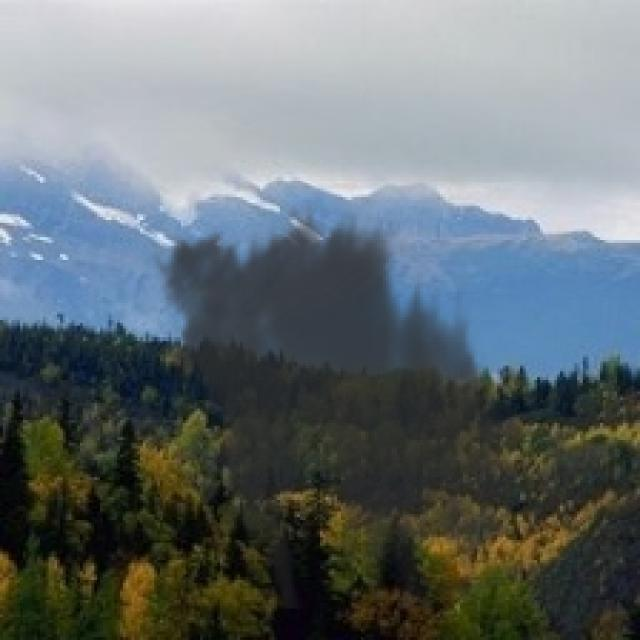Smoke: (142, 197, 534, 609)
